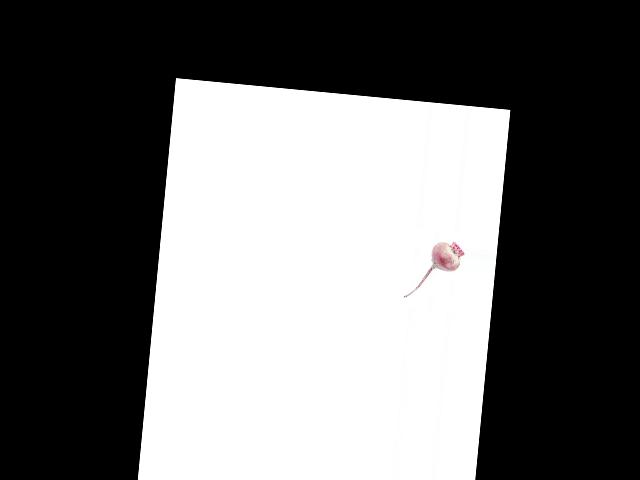beet: (403, 237, 465, 303)
